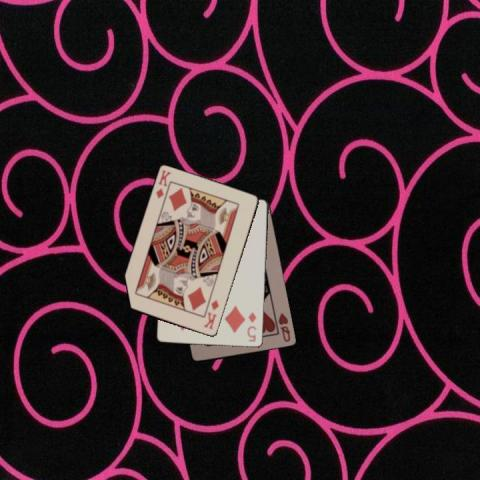5d: (245, 309, 258, 343)
Kd: (200, 298, 220, 331), (153, 167, 172, 200)
Qh: (275, 310, 292, 344)
